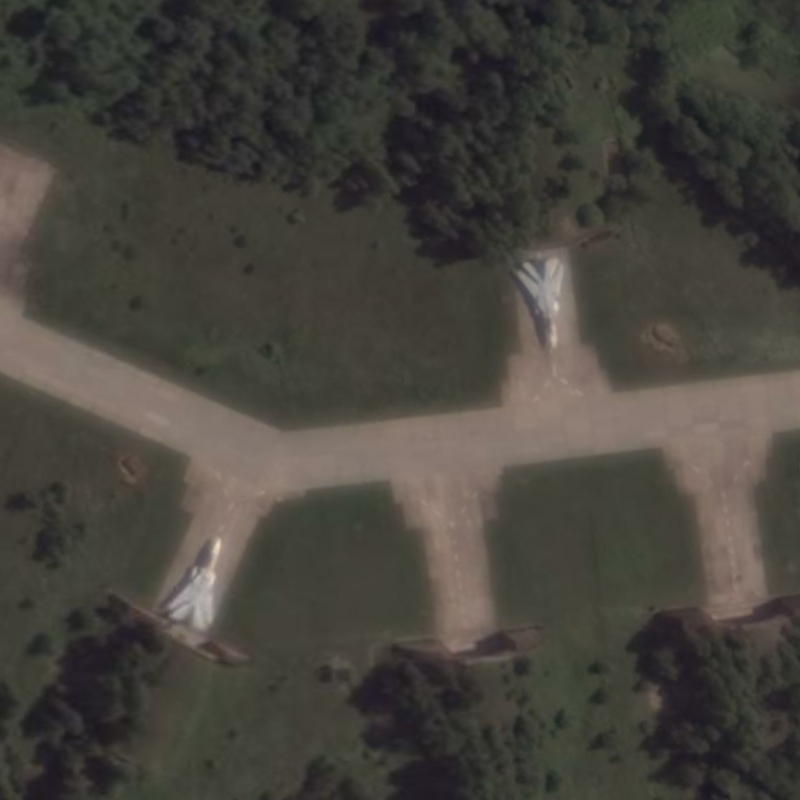A20: (164, 535, 224, 633), (512, 255, 567, 351)
